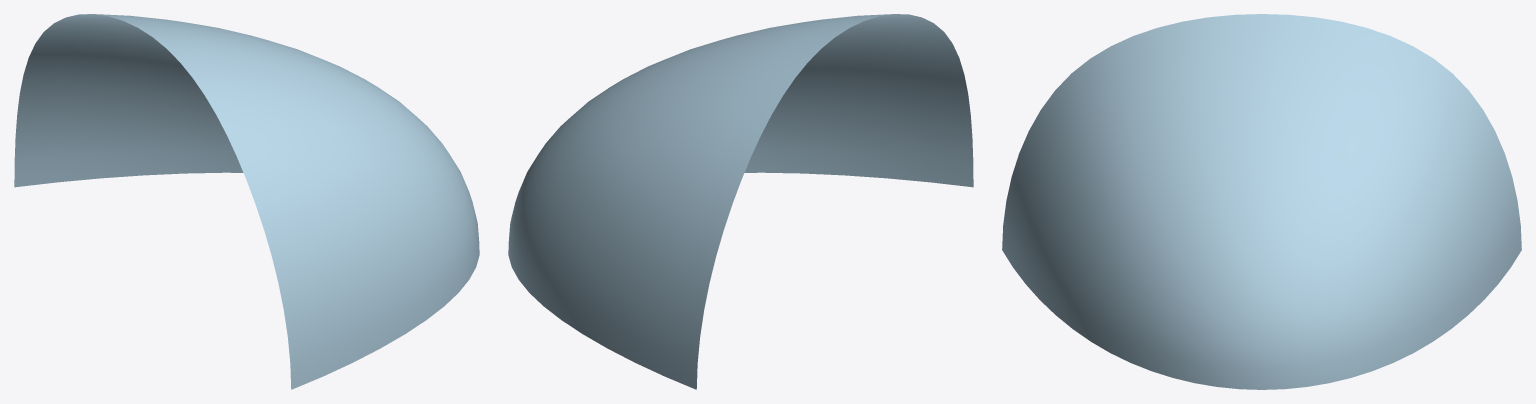
File: nave_trozo3_cristal.glb
3 views of the same model, side by side, from view 1: azimuth 30°, elevation 25°; view 2: azimuth 150°, elevation 25°; view 3: azimuth 270°, elevation 25° (orthographic). The views are drawn at different scales.
Visible parts, largest first — view 1: Cube.005; view 2: Cube.005; view 3: Cube.005.
Part boxes in pixels (x1=…): Cube.005: x1=14, y1=14, x2=479, y2=389; Cube.005: x1=508, y1=14, x2=973, y2=389; Cube.005: x1=1002, y1=14, x2=1521, y2=389.
Bounding box in the file's own units: 2.54 × 1.95 × 3.9.
